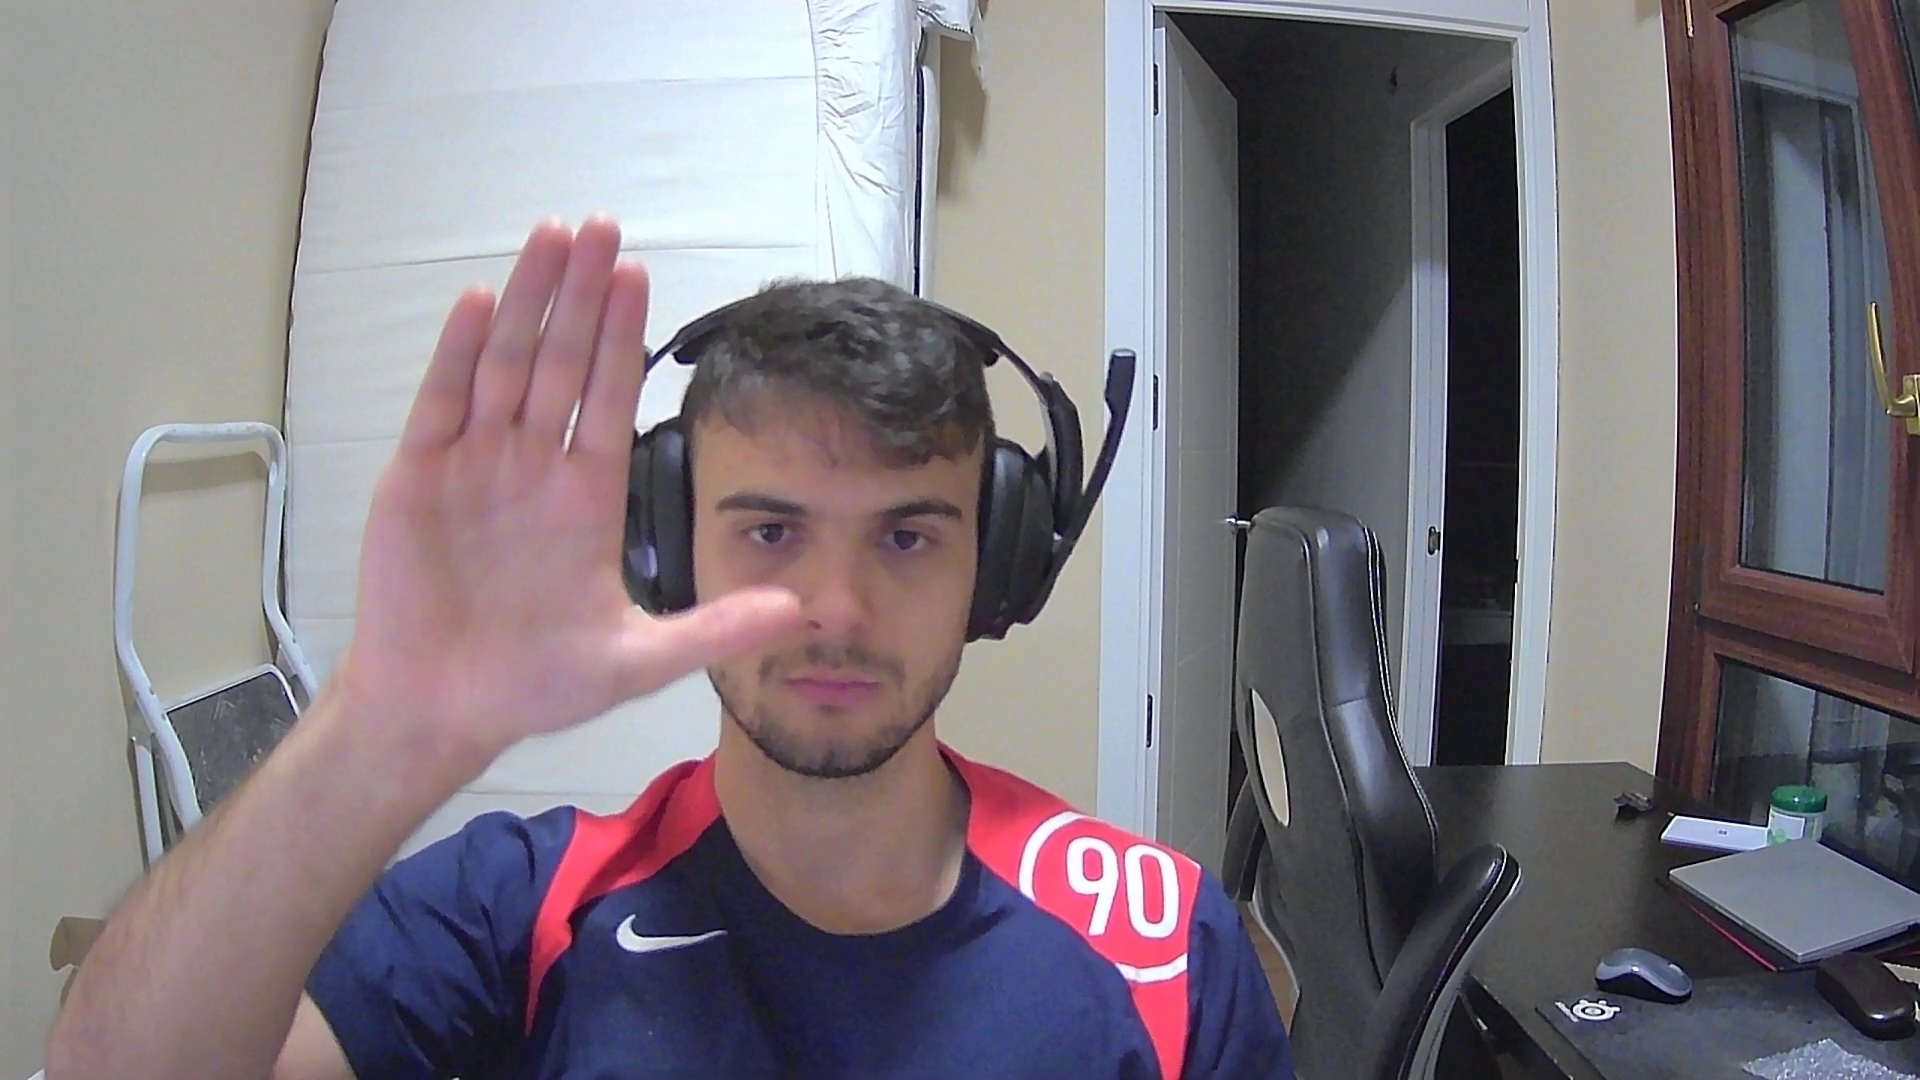Palm: (318, 200, 799, 741)
